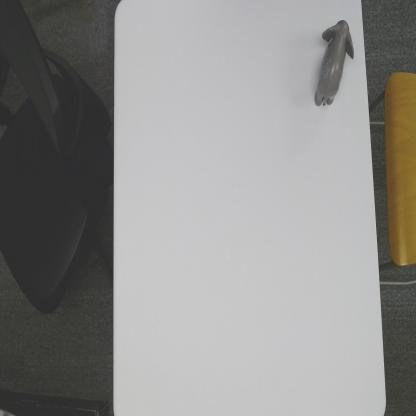Elephant: (312, 17, 356, 108)
